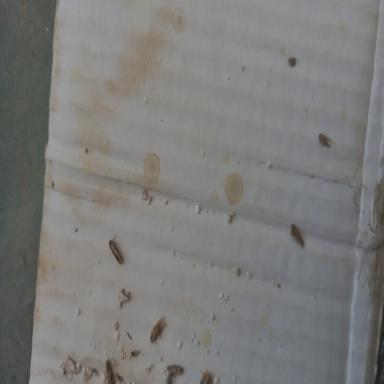pbw: (149, 315, 166, 352), (109, 233, 126, 265), (291, 223, 304, 247), (106, 354, 114, 384), (167, 364, 183, 378)
